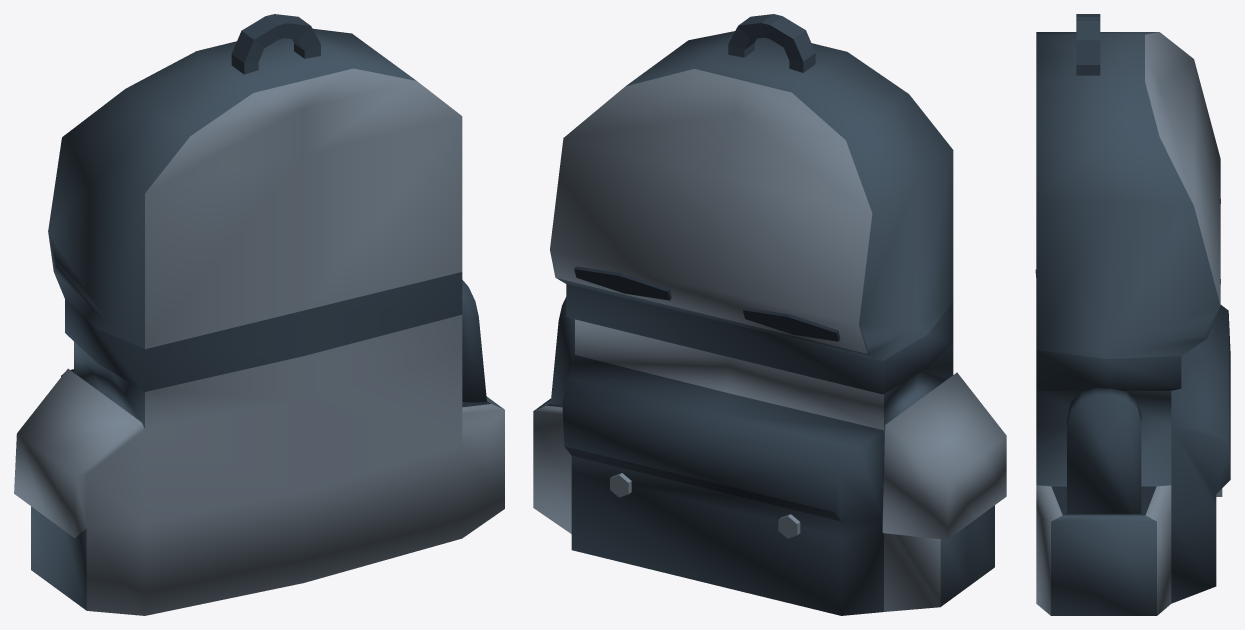
The model's file is militaryBackpack.fbx.
The picture shows the model from 3 angles, left to right: view 1: azimuth 30°, elevation 25°; view 2: azimuth 150°, elevation 25°; view 3: azimuth 270°, elevation 25°; orthographic projection. The views are drawn at different scales.
Parts seen in each view (by area): view 1: militaryBackpack; view 2: militaryBackpack; view 3: militaryBackpack.
Boxes of the visible parts, x1,y1,x2,y2 form: militaryBackpack: (14,14,504,615); militaryBackpack: (533,14,1006,615); militaryBackpack: (1035,14,1230,615).
Bounding box in the file's own units: 93.26 × 113 × 38.5.
